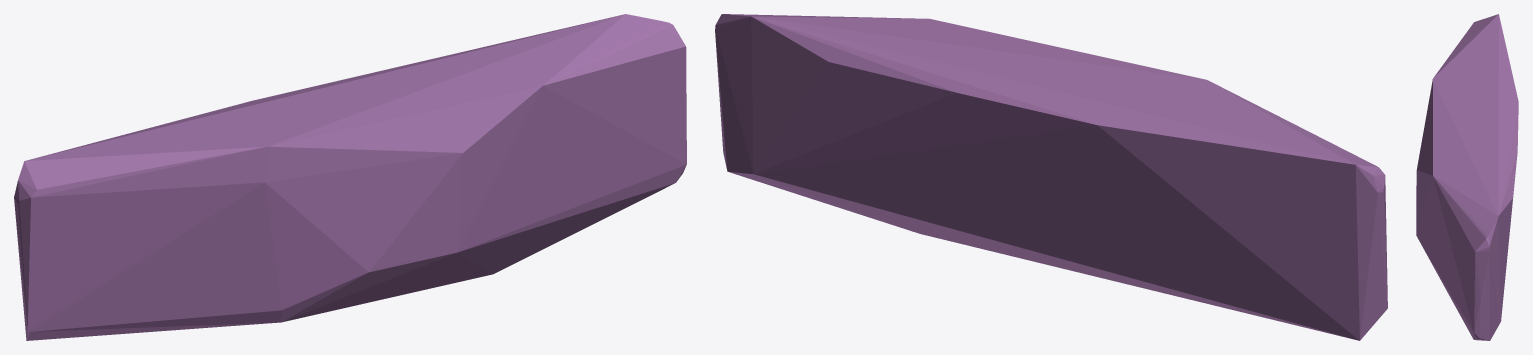
Rendered from table_surgical_a01.glb.
The picture shows the model from 3 angles, left to right: view 1: azimuth 30°, elevation 25°; view 2: azimuth 150°, elevation 25°; view 3: azimuth 270°, elevation 25°; orthographic projection. The views are drawn at different scales.
Visible parts, largest first — view 1: geometry_0; view 2: geometry_0; view 3: geometry_0.
Part boxes in pixels (x1,y1,x2,y2): geometry_0: (14, 14, 686, 340); geometry_0: (715, 14, 1387, 340); geometry_0: (1416, 14, 1518, 340).
Bounding box in the file's own units: 0.4797 × 0.1363 × 0.0932.
